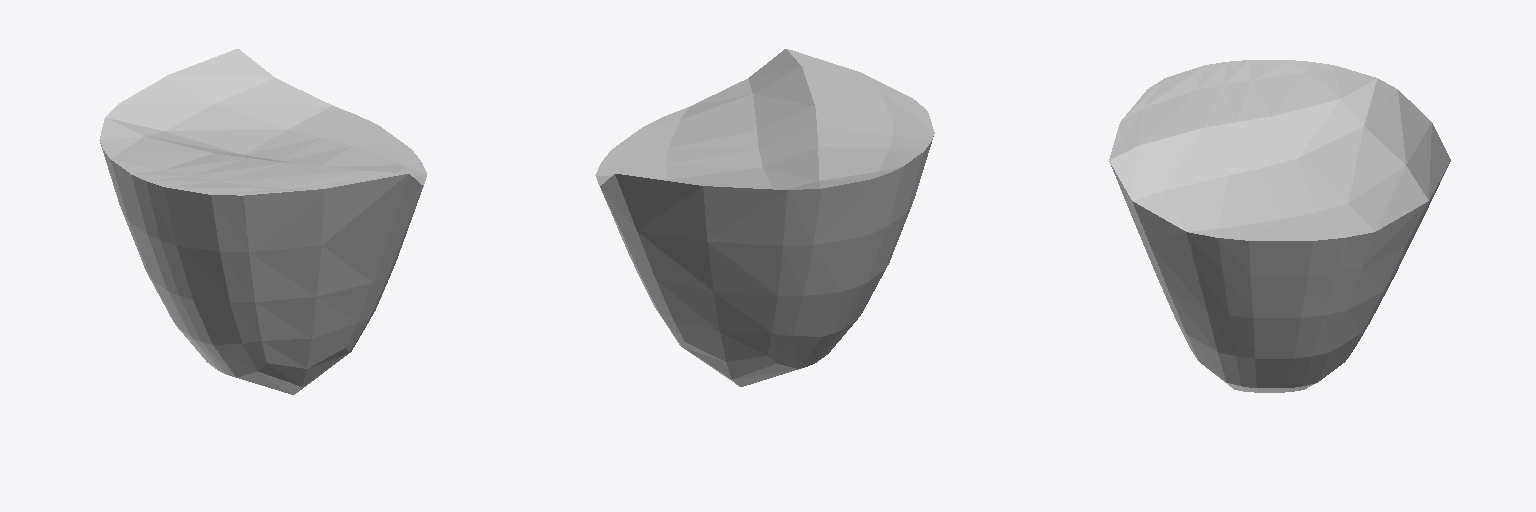
The model's file is oso-pie-r.obj.
The picture shows the model from 3 angles: view 1: azimuth 30°, elevation 25°; view 2: azimuth 150°, elevation 25°; view 3: azimuth 270°, elevation 25°; orthographic projection.
Parts seen in each view (by area): view 1: Cube.004_Cube.008; view 2: Cube.004_Cube.008; view 3: Cube.004_Cube.008.
Boxes of the visible parts, x1=… form: Cube.004_Cube.008: x1=99, y1=49, x2=426, y2=394; Cube.004_Cube.008: x1=595, y1=49, x2=934, y2=386; Cube.004_Cube.008: x1=1109, y1=60, x2=1450, y2=392.
Size of the model in its own units: 0.8416 by 0.7358 by 0.8873.